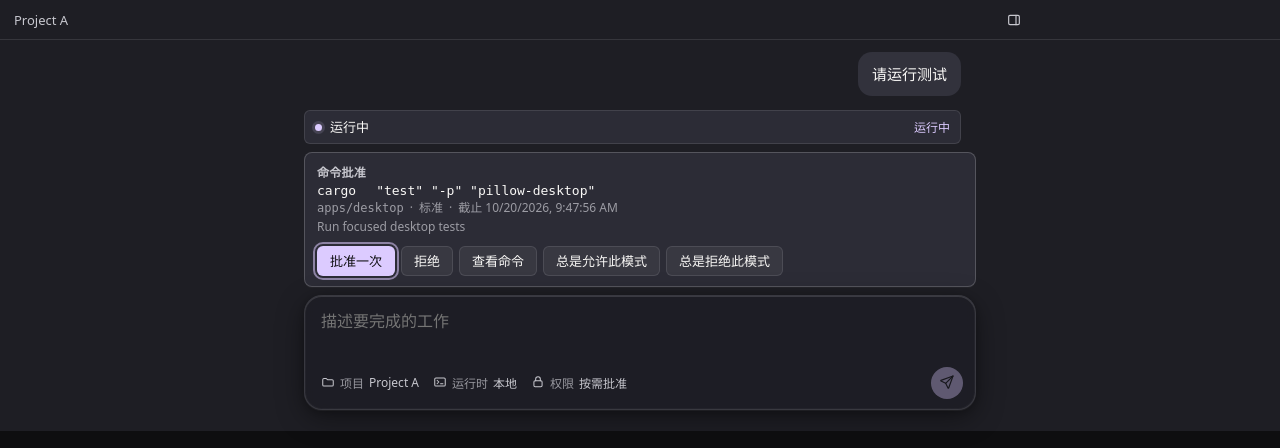
Test: C4 workbench process integration — terminal pane › opens Terminal output mode and propagates liveRetained
Click the button with test id "command-approval-review".
click(498, 261)  # box [459,246,537,276]
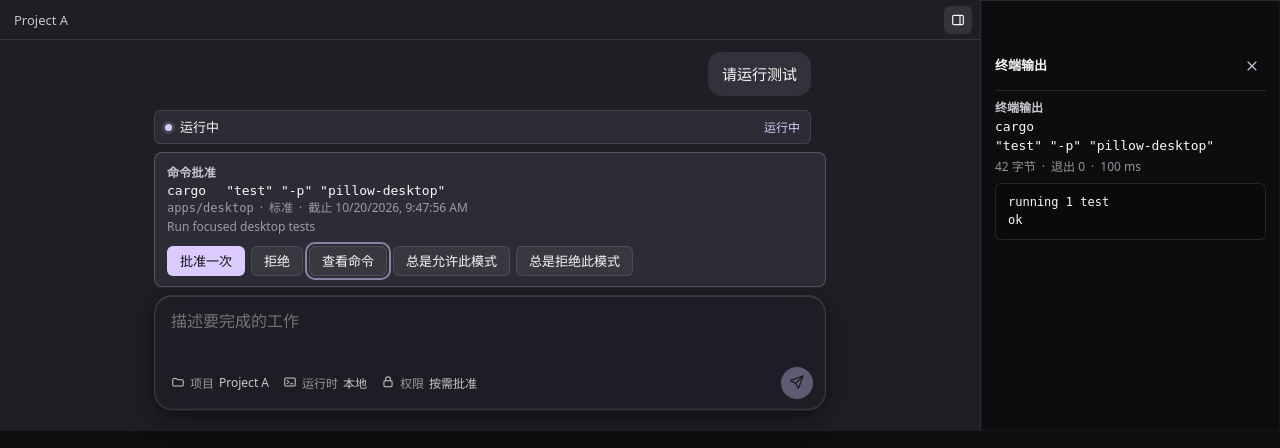
Now the element with test id "terminal-output-view" is shown, box [995,99,1266,240]
Now the element with test id "terminal-output-pane" is shown, box [995,90,1266,240]
Now the 1st heading "终端输出" is shown, box [995,56,1047,76]
